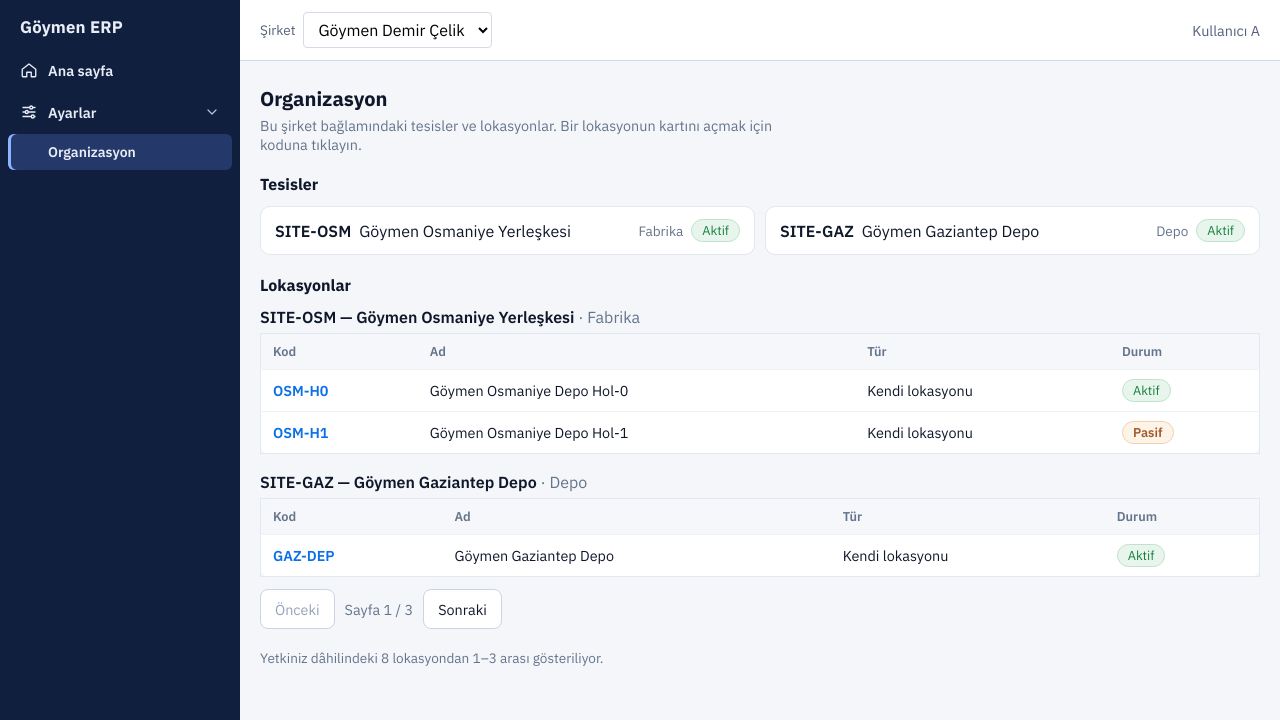
paging › requests the next page from the SERVER’s echoed values
Click the button "Sonraki" at [463, 609], box [423, 589, 502, 629]
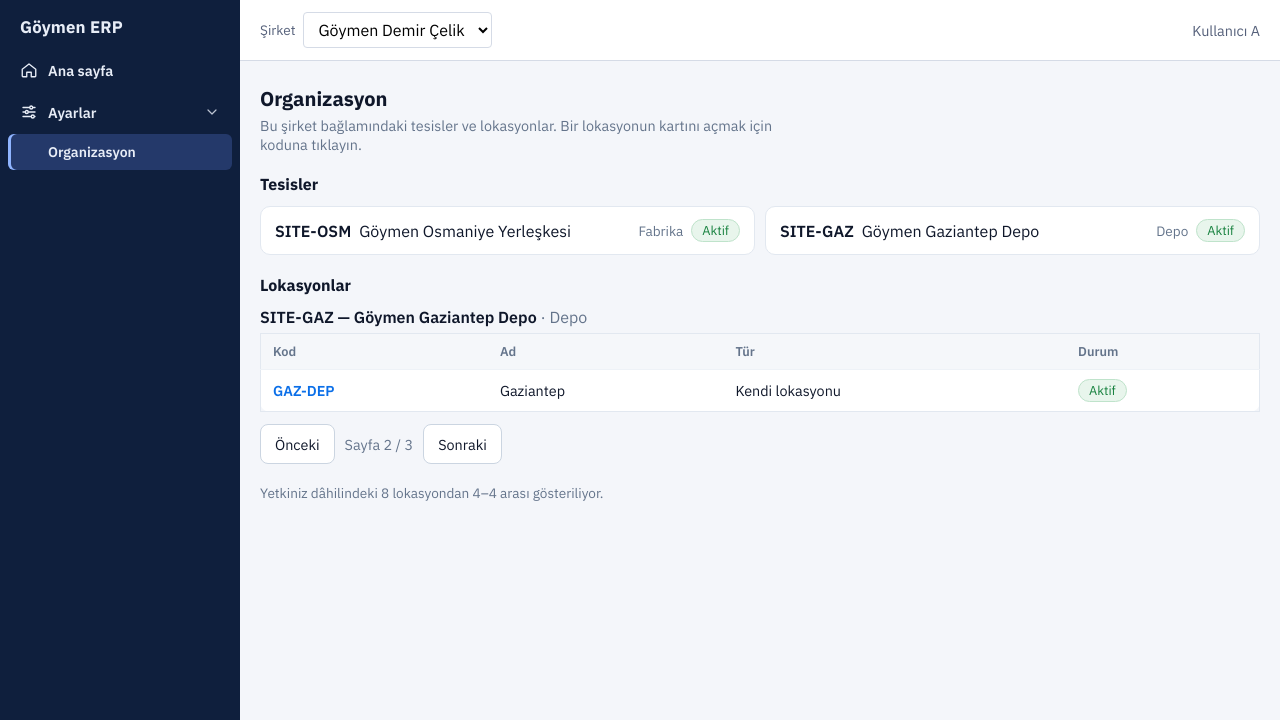
Expected: the text "Sayfa 2 / 3" is shown, [345, 434, 413, 454]
